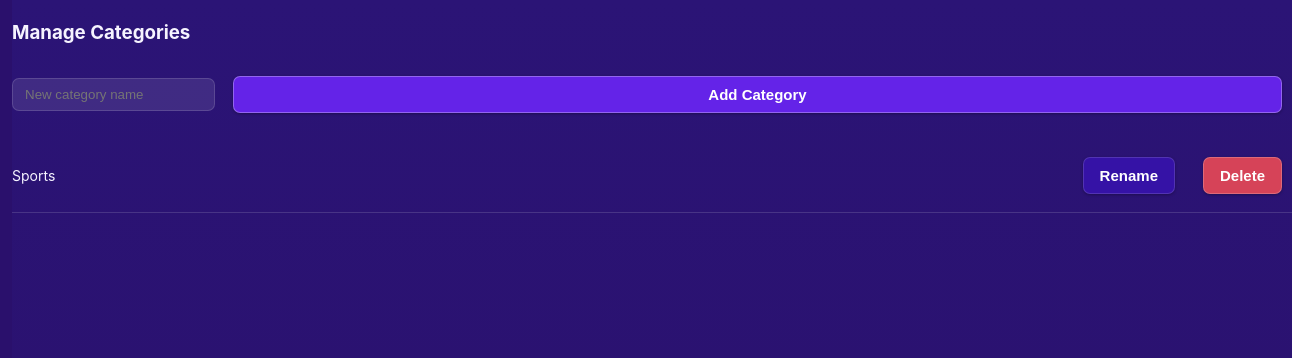
Test: ManageCategoriesPage › lets an admin view, create, rename, and delete categories
Expected: the text "Sports" is shown, [12,166,55,184]
In the field with placeholder "New category name": (114, 94) [12,78,215,110], type "Music"
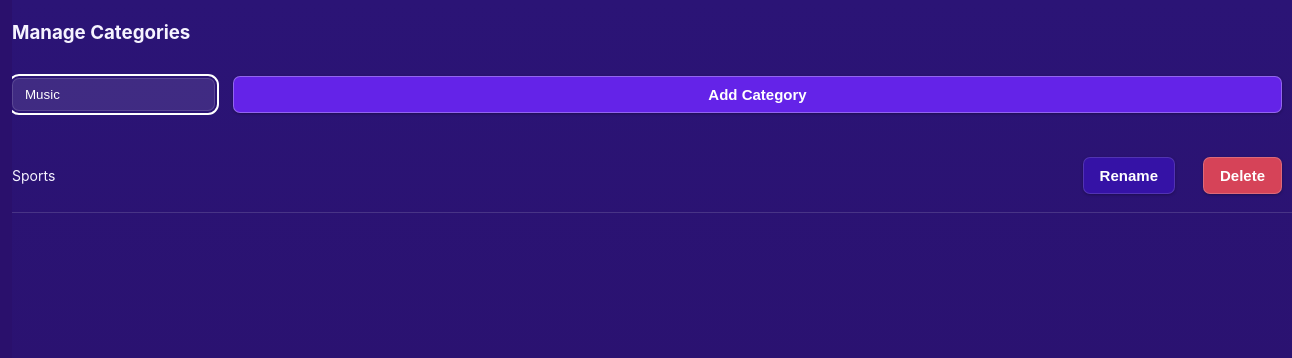
Click the button "Add Category": (758, 94) [233,76,1282,112]
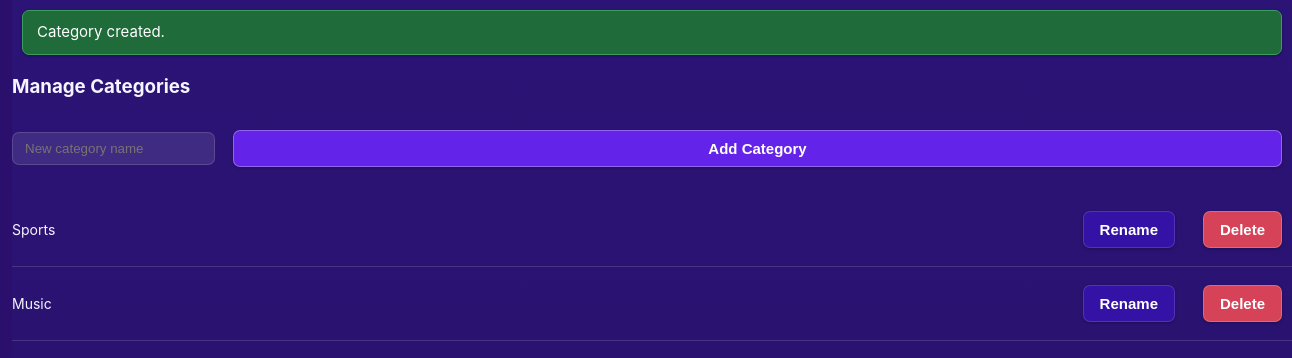
Now the text "Music" is shown, box [12,295,52,312]
Note: Rename the newly-created one
Click the button "Rename" in the row of "Music": (1129, 304) [1083,285,1175,322]
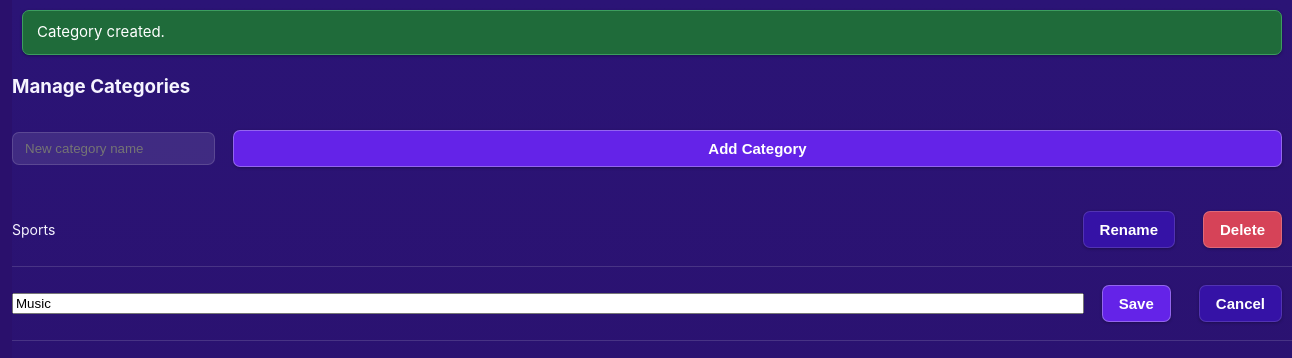
Replace the text in the field showing "Music" with "Jazz": (548, 304) [12,293,1084,314]
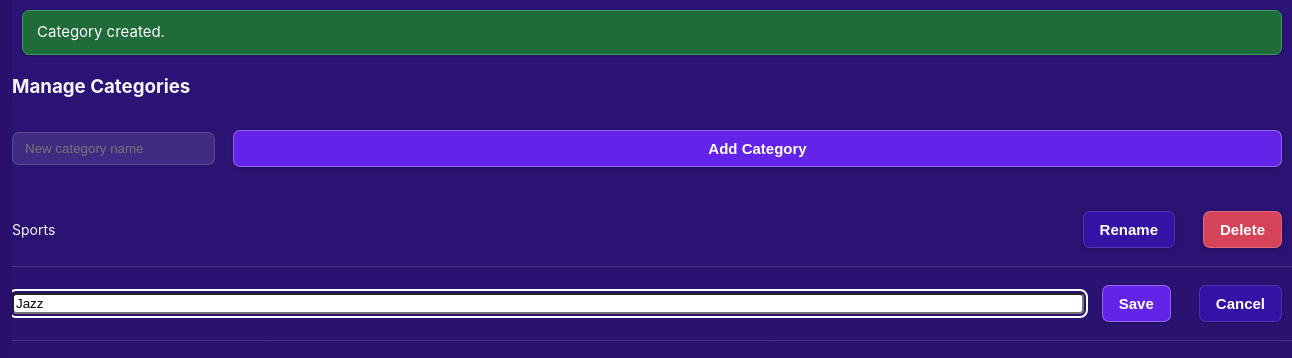
Click the button "Save": (1136, 304) [1102,285,1171,322]
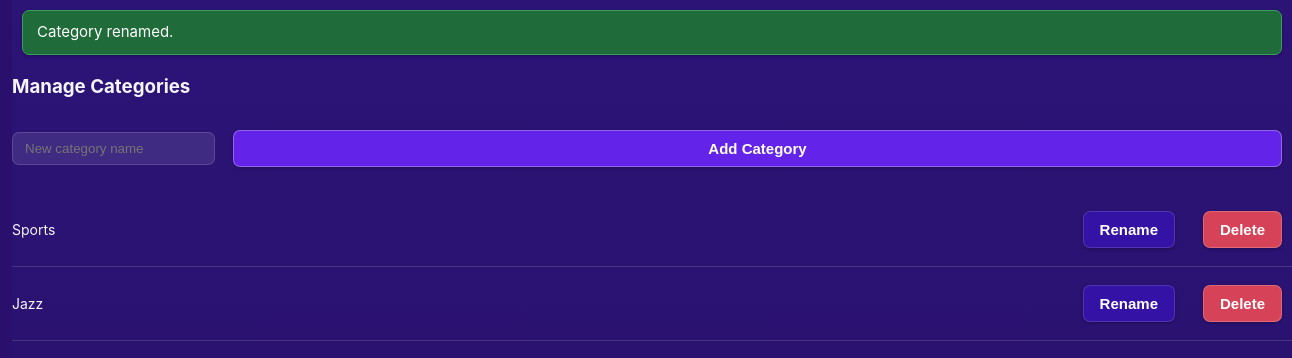
Expected: the text "Music" is not shown
Now the text "Jazz" is shown, box [12,295,43,312]
Click the button "Delete" in the row of "Jazz": (1242, 304) [1203,285,1282,322]
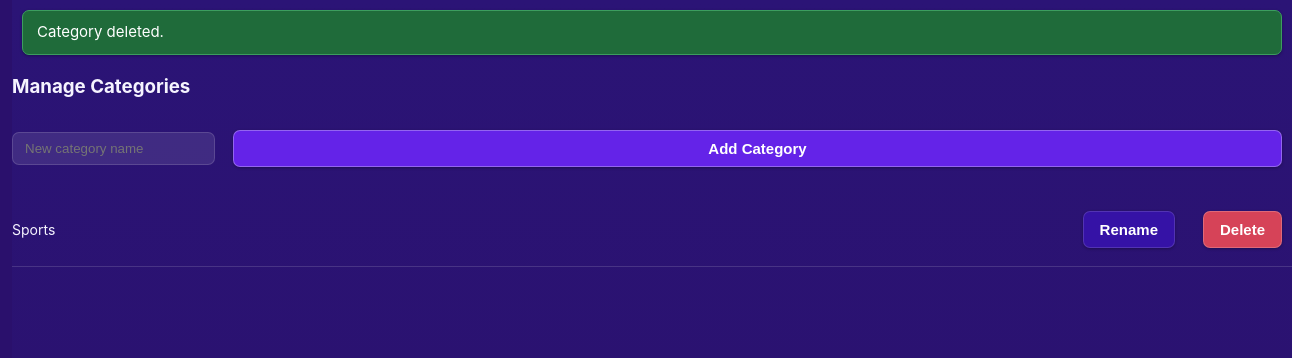
Expected: the text "Sports" is shown, [12,221,55,238]
Now the text "Jazz" is gone
